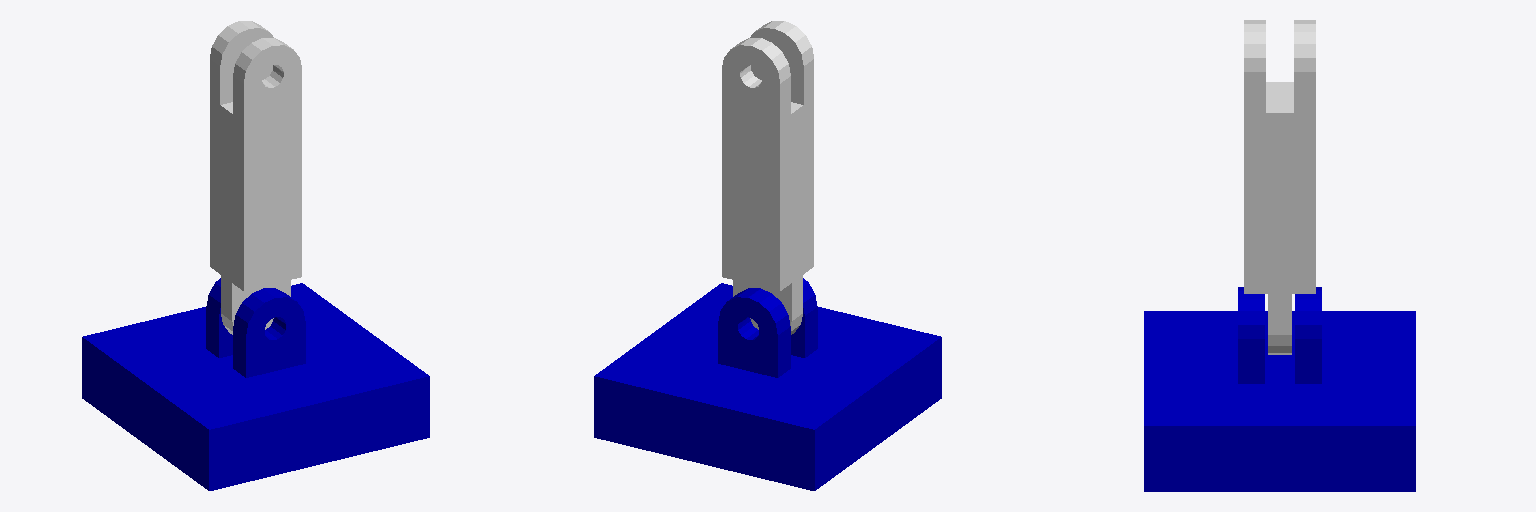
URDF robot description (aironbot):
<?xml version="1.0" encoding="UTF-8"?>
<robot name="aironbot">
  
  <material name="blue">
    <color rgba="0 0 0.8 1"/>
  </material>

  <material name="white">
    <color rgba="0.9 0.9 0.9 1"/>
  </material>
   
   <link name="base_link">
      <visual>
         <geometry>
            <mesh filename="package://aironbot_description/meshes/manipulator_base_link.stl" />
         </geometry>
         <material name="blue"/>
      </visual>
      <collision>
         <geometry>
            <mesh filename="package://aironbot_description/meshes/manipulator_base_link.stl" />
         </geometry>
      </collision>
   </link>
   
   <link name="link_1">
      <visual>
         <geometry>
            <mesh filename="package://aironbot_description/meshes/manipulator_link.stl" />
         </geometry>
         <material name="white"/>
      </visual>
      <collision>
         <geometry>
            <mesh filename="package://aironbot_description/meshes/manipulator_link.stl" />
         </geometry>
      </collision>
   </link>
   
   <joint name="link_1_to_base" type="revolute">
      <parent link="base_link" />
      <child link="link_1" />
      <limit effort="1000.0" lower="-1.57" upper="1.57" velocity="0.5"/> 
      <origin xyz="0 0 0.14" />
      <axis xyz="0 1 0" />    
   </joint>

</robot>

--- Render facts (derived) ---
3 views of the same robot in one strip: view 1: azimuth 30°, elevation 25°; view 2: azimuth 150°, elevation 25°; view 3: azimuth 270°, elevation 25° (orthographic).
Model aironbot with 2 links and 1 joints (1 revolute), rooted at base_link, posed all joints at 0.
Visible links, largest first — view 1: base_link, link_1; view 2: base_link, link_1; view 3: base_link, link_1.
Link boxes in pixels (x1,y1,x2,y2): base_link: (82, 278, 429, 490); link_1: (210, 21, 301, 334); base_link: (594, 278, 941, 490); link_1: (722, 21, 813, 334); base_link: (1144, 287, 1415, 491); link_1: (1244, 20, 1315, 354).
Size in the robot's own frame: 0.3 by 0.3 by 0.5 metres.
Meshes: 2 distinct files referenced, 2 mesh visuals loaded (2 binary STL).